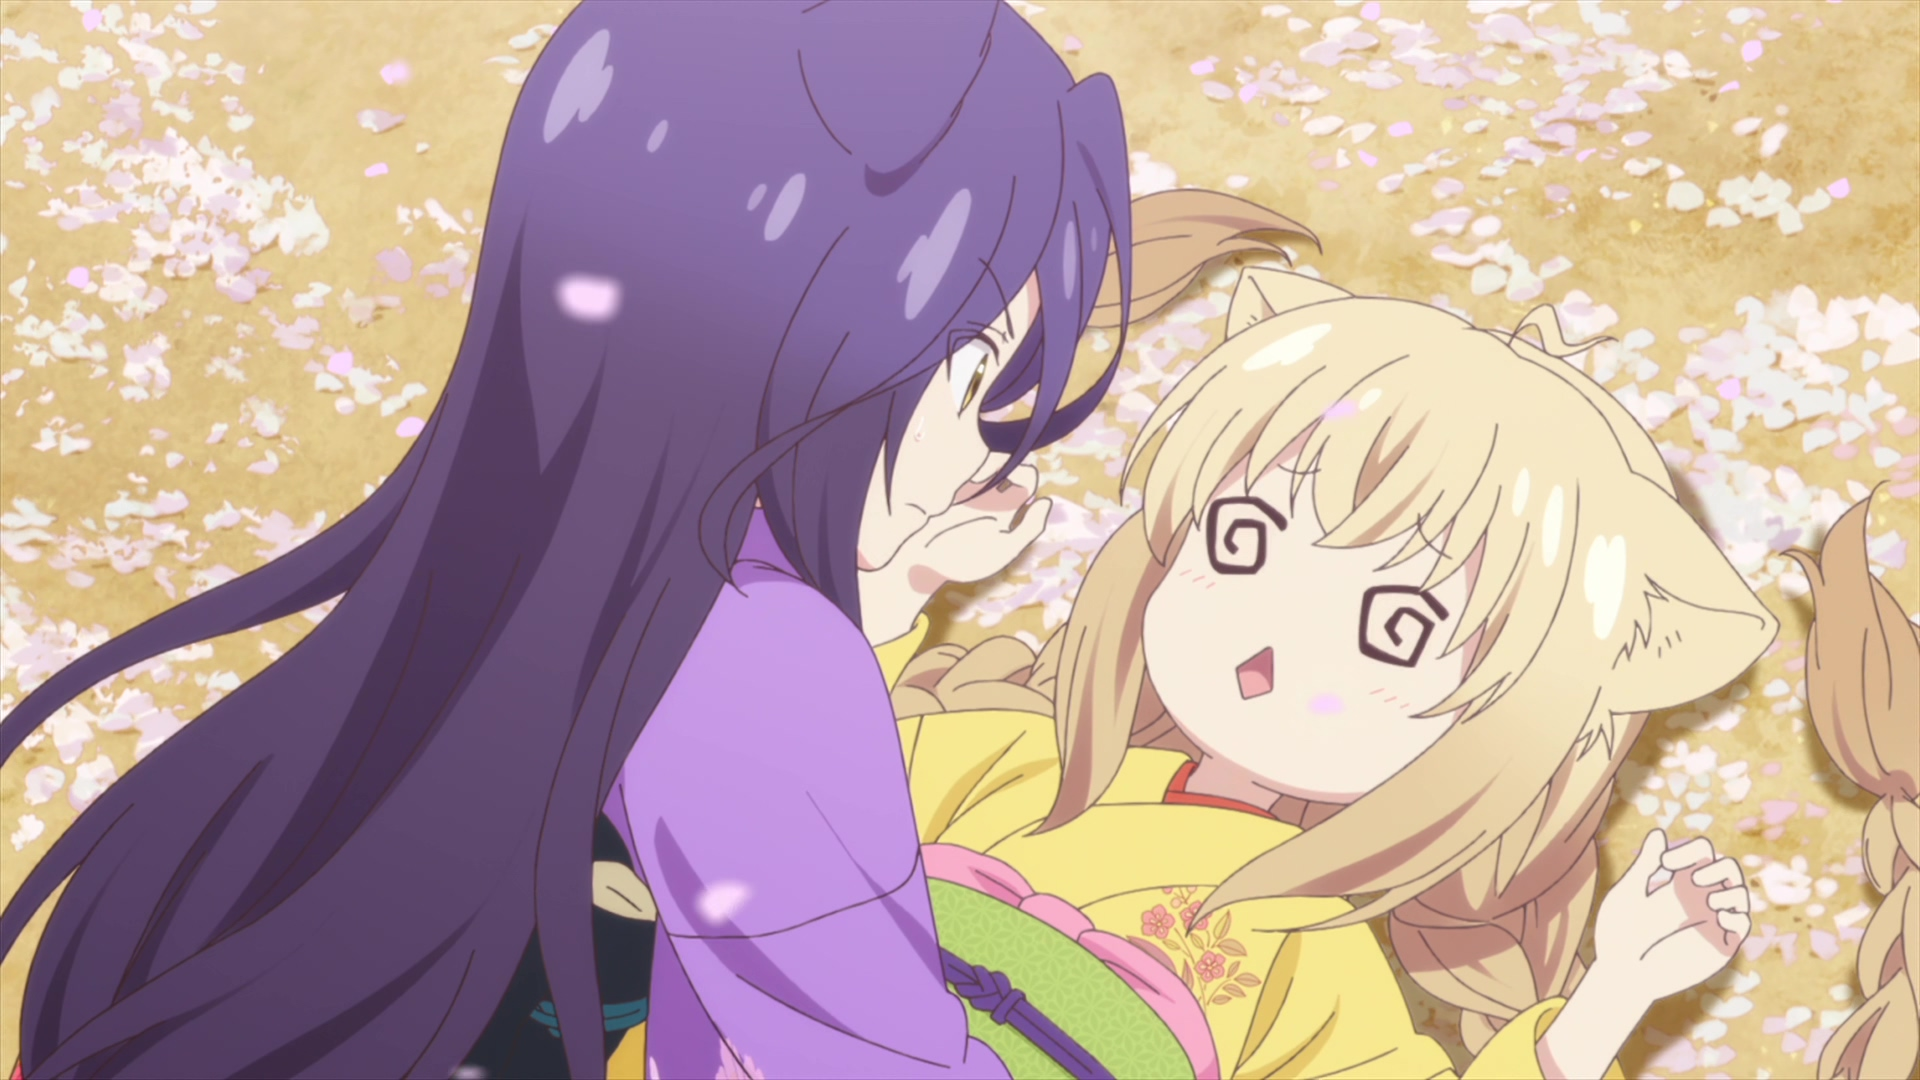柚: (604, 187, 1920, 1080)
皋: (1, 1, 1134, 1080)
